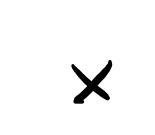mult: (71, 60, 113, 104)
